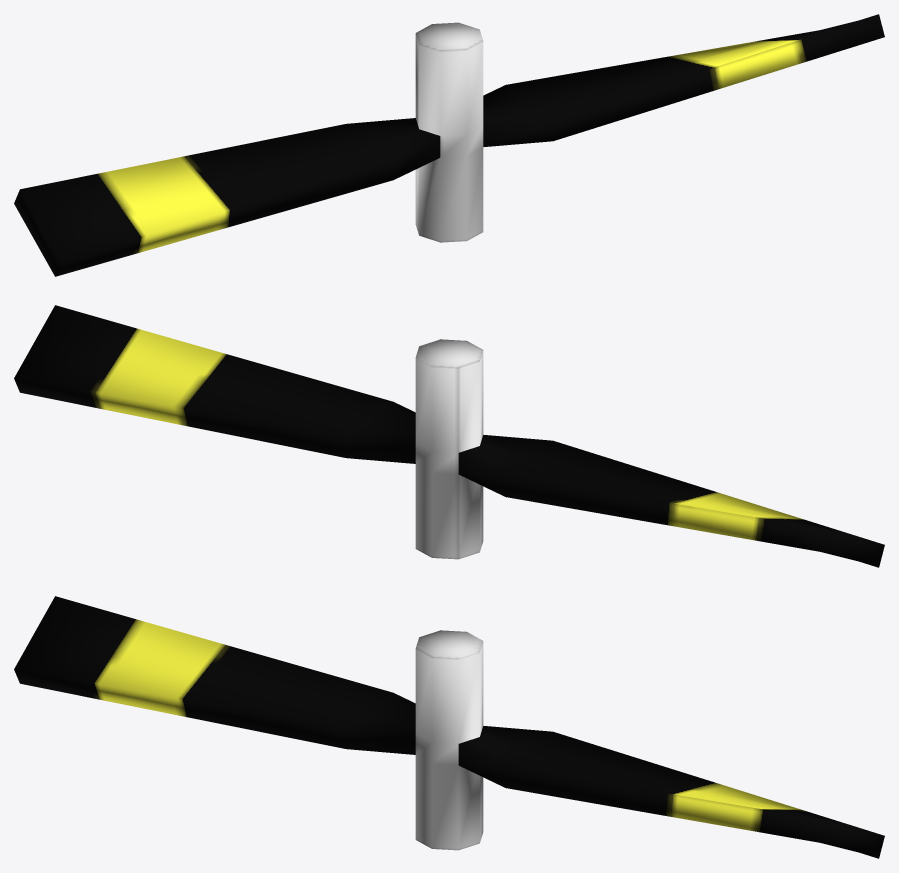
File: Helicopter Rotor Tail.obj
The picture shows the model from 3 angles, top to bottom: view 1: azimuth 30°, elevation 25°; view 2: azimuth 150°, elevation 25°; view 3: azimuth 330°, elevation 25°; orthographic projection.
Parts seen in each view (by area): view 1: Rotor_Tail_Cube.007; view 2: Rotor_Tail_Cube.007; view 3: Rotor_Tail_Cube.007.
Boxes of the visible parts, x1,y1,x2,y2 form: Rotor_Tail_Cube.007: [14, 14, 884, 276]; Rotor_Tail_Cube.007: [14, 305, 884, 567]; Rotor_Tail_Cube.007: [14, 596, 884, 858].
Size of the model in its own units: 2 by 0.4441 by 0.2.
Materials: 1 (1 with a texture image).
